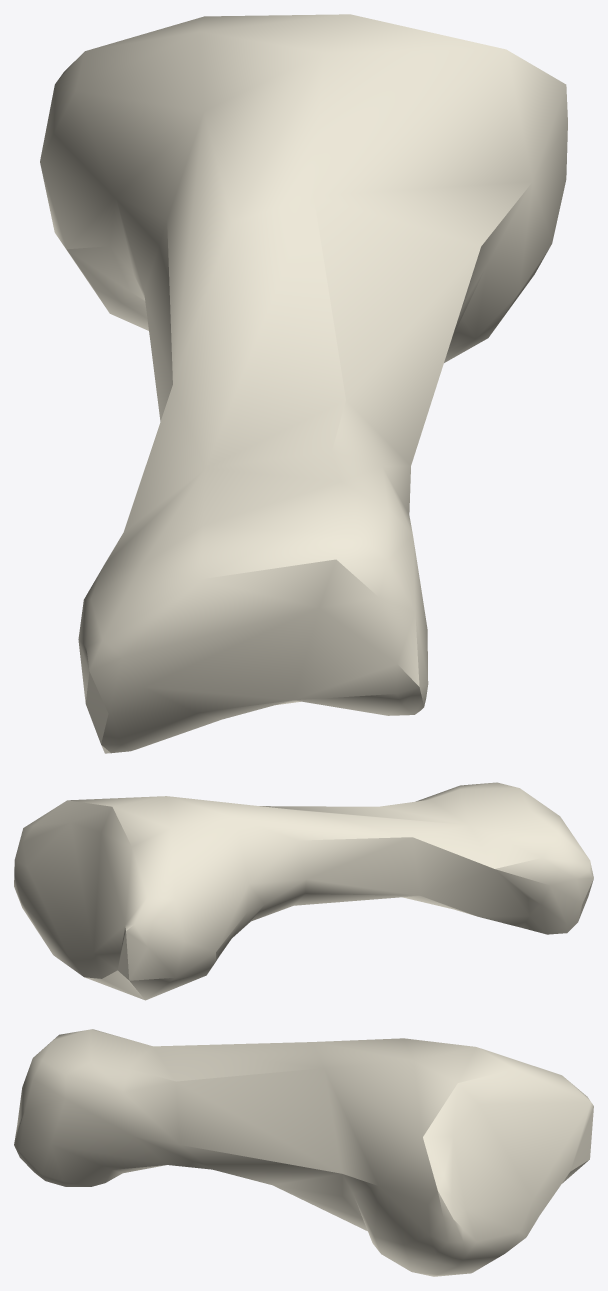
Rendered from fma32640_fj6420m.glb.
3 renders of one model, top to bottom at view 1: azimuth 30°, elevation 25°; view 2: azimuth 150°, elevation 25°; view 3: azimuth 270°, elevation 25°, orthographic. The views are drawn at different scales.
Parts seen in each view (by area): view 1: FMA32640_FJ6420M; view 2: FMA32640_FJ6420M; view 3: FMA32640_FJ6420M.
Part boxes in pixels (x1=…): FMA32640_FJ6420M: x1=40, y1=14, x2=567, y2=753; FMA32640_FJ6420M: x1=14, y1=782, x2=593, y2=1000; FMA32640_FJ6420M: x1=14, y1=1029, x2=593, y2=1276.
Size of the model in its own units: 0.0219 by 0.0094 by 0.0253.
